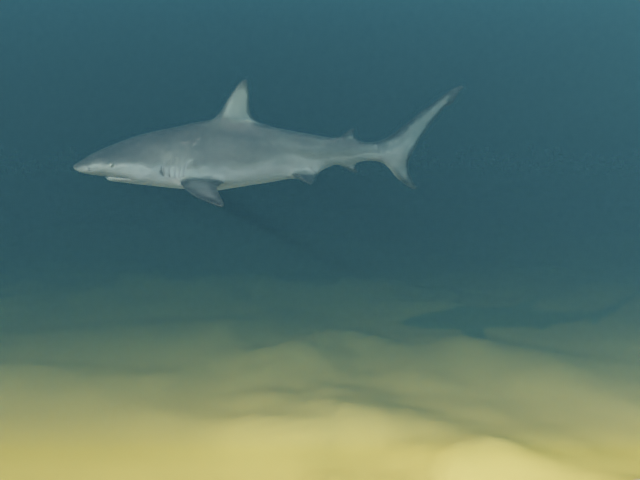Carribean Shark.001: (72, 79, 463, 206)
